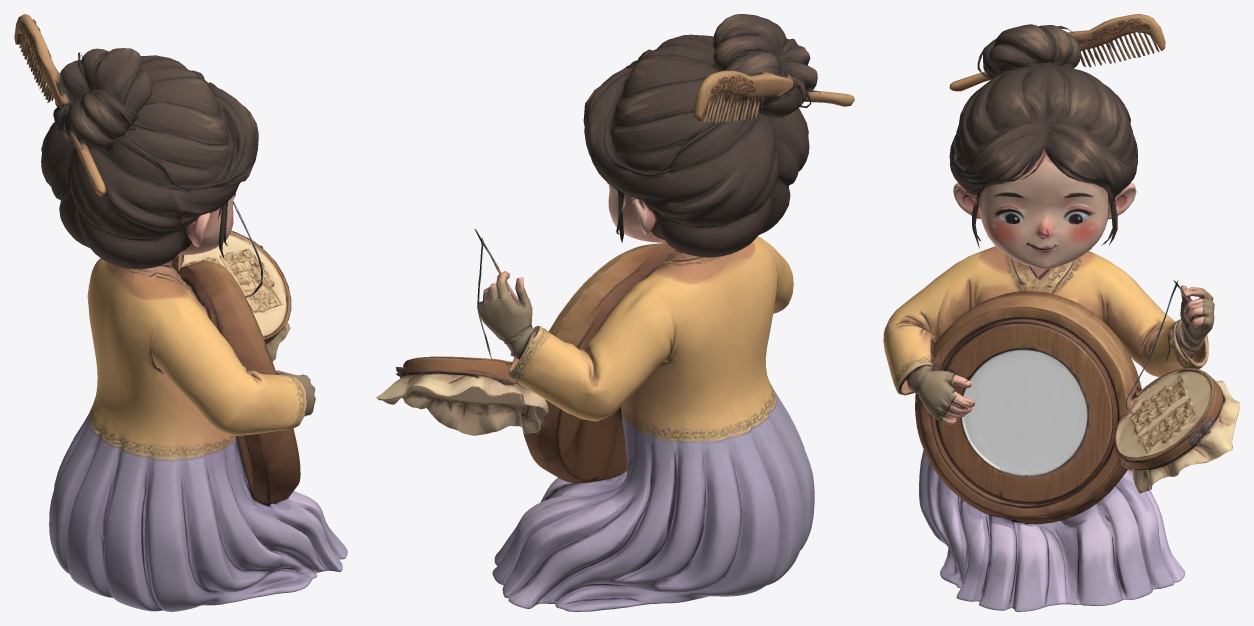
Rendered from n_w08_embroider.glb.
The picture shows the model from 3 angles, left to right: view 1: azimuth 30°, elevation 25°; view 2: azimuth 150°, elevation 25°; view 3: azimuth 270°, elevation 25°; orthographic projection. The views are drawn at different scales.
Parts seen in each view (by area): view 1: tripo_node_75bf356a-8d33-4cc1-96d3-0eb75596d7cf; view 2: tripo_node_75bf356a-8d33-4cc1-96d3-0eb75596d7cf; view 3: tripo_node_75bf356a-8d33-4cc1-96d3-0eb75596d7cf.
Part boxes in pixels (x1,y1,x2,y2): tripo_node_75bf356a-8d33-4cc1-96d3-0eb75596d7cf: (14,14,347,611); tripo_node_75bf356a-8d33-4cc1-96d3-0eb75596d7cf: (376,14,854,611); tripo_node_75bf356a-8d33-4cc1-96d3-0eb75596d7cf: (883,14,1239,611).
Bounding box in the file's own units: 0.5925 × 0.98 × 0.6448.
1 material, 1 textured.
